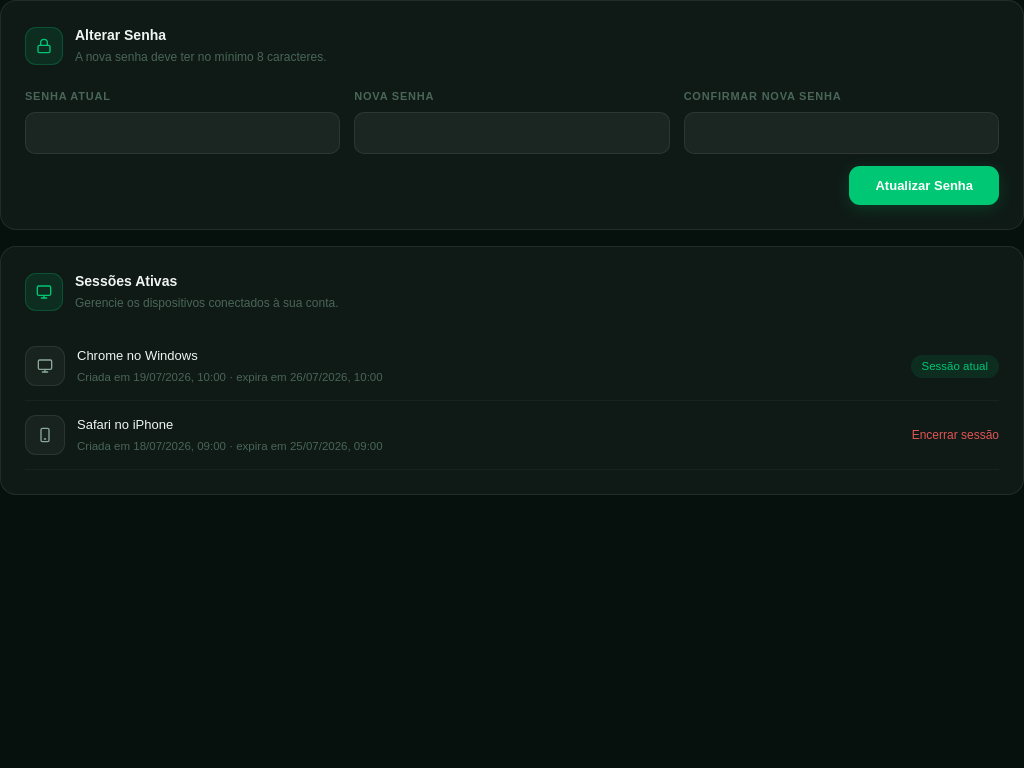
it: SecurityTab › sessão já ausente no refetch (already gone) não gera erro visível
Check: the text "Safari no iPhone" is shown, box 77,417 -> 173,432
Click the button "Encerrar sessão" at [955, 435], box 912,426 -> 999,444
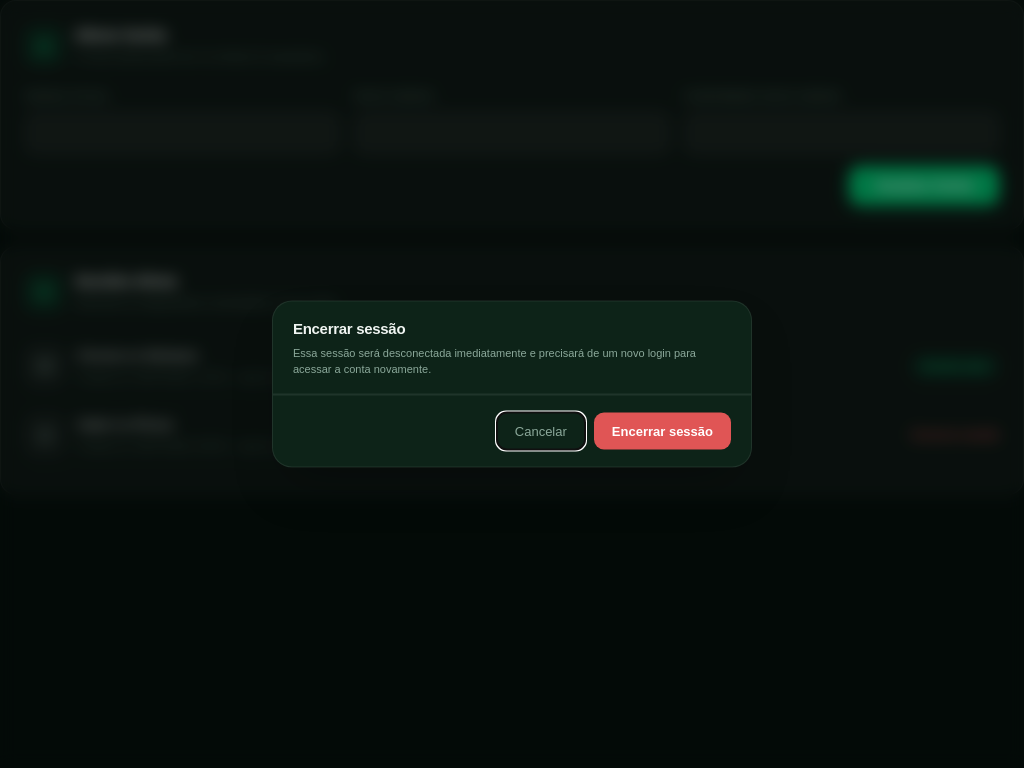
Check: the dialog is shown, box 272,300 -> 752,468
Click the button "Encerrar sessão" at [662, 431], box 594,412 -> 731,450
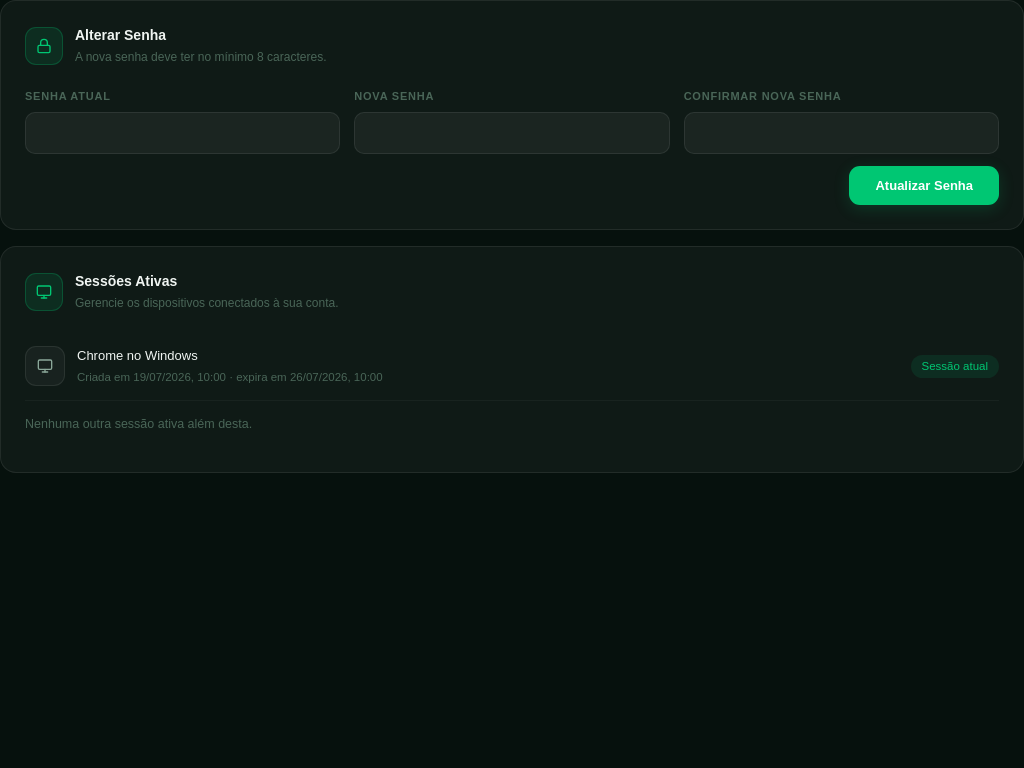
Check: the text "Safari no iPhone" is gone
